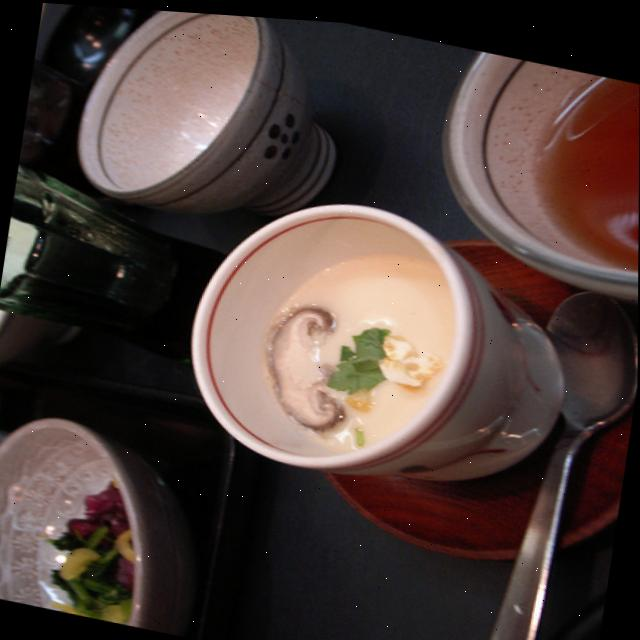鸡蛋料理: (167, 187, 600, 534)
